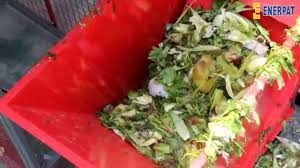kitchen_waste: (108, 100, 155, 137), (150, 47, 181, 85), (191, 55, 218, 92), (270, 45, 297, 81), (168, 110, 193, 140)
